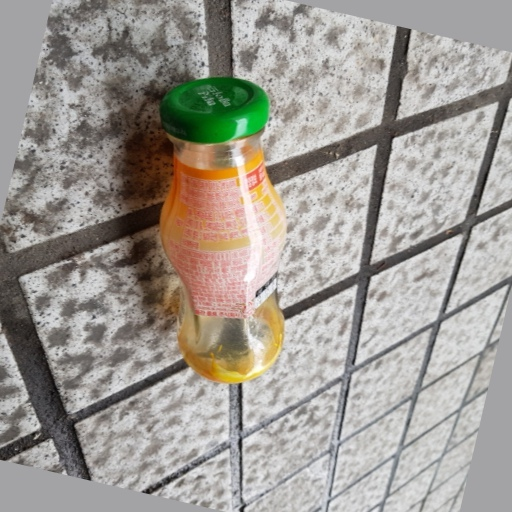Glass_4: (159, 76, 290, 389)
